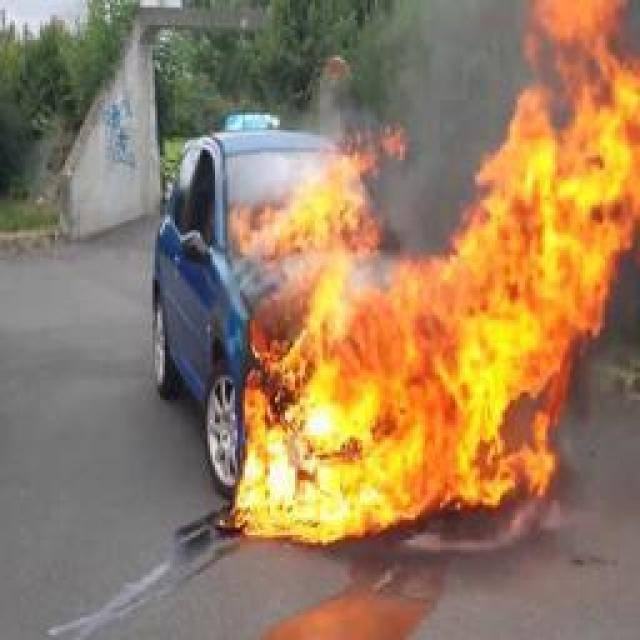Fire: (230, 0, 640, 540)
